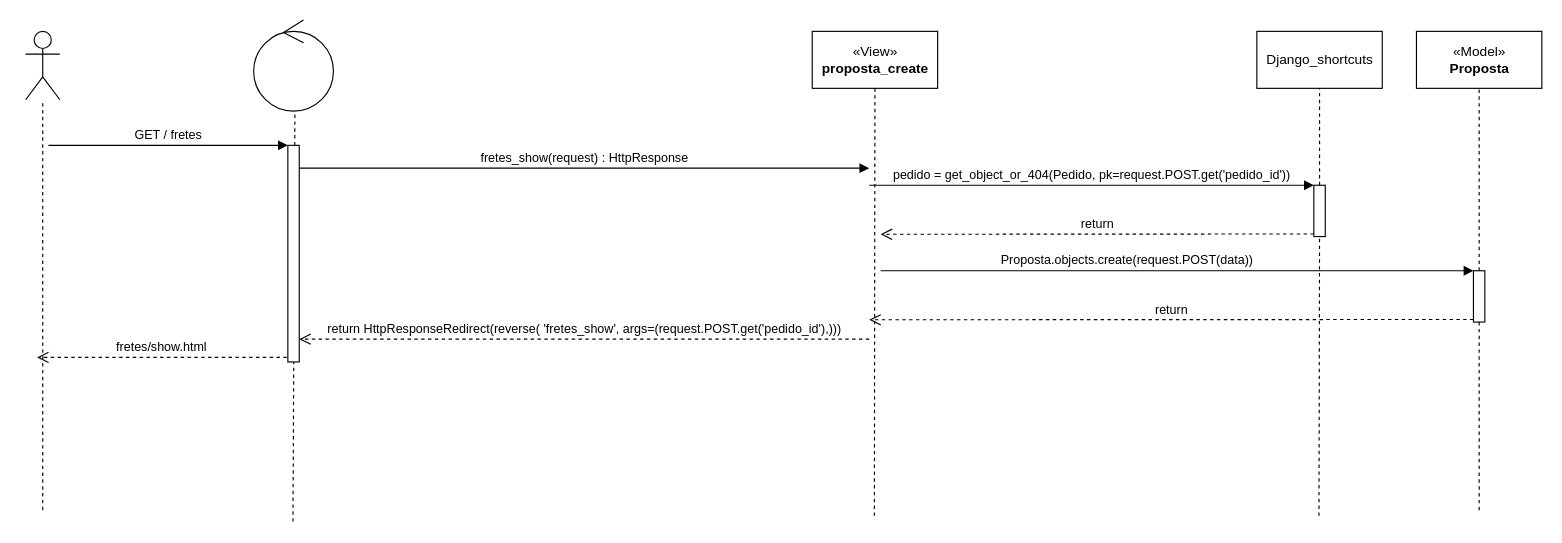
Image size: 1562x543. Some labels were removed from this diagram. Each missing label, with the box of its shape:
Django Control: (253, 19, 333, 111)
Freteiro: (25, 30, 60, 100)
